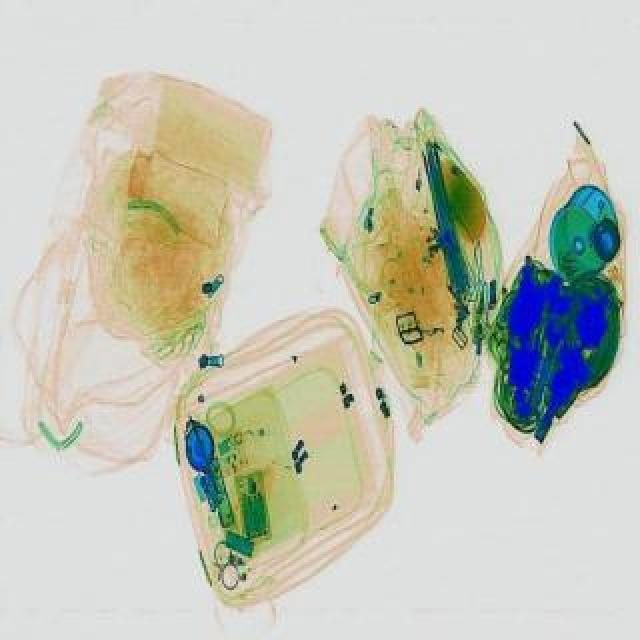scissors: (520, 314, 568, 422)
